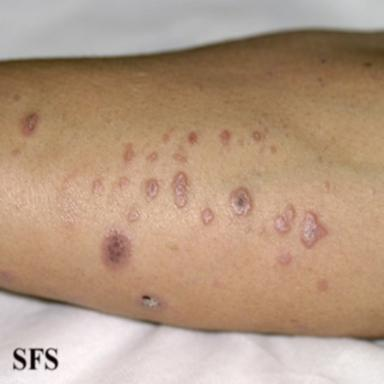lichen: (103, 229, 131, 269), (301, 211, 327, 248), (138, 289, 167, 312), (229, 187, 252, 215), (172, 171, 189, 208), (275, 205, 295, 232), (21, 113, 39, 136), (145, 179, 160, 199), (124, 143, 135, 165), (202, 207, 215, 224), (277, 251, 292, 265), (127, 207, 140, 222), (92, 179, 104, 195), (145, 151, 159, 163), (173, 153, 188, 164), (220, 130, 231, 145), (317, 279, 329, 292), (119, 177, 130, 190), (188, 132, 197, 144), (253, 132, 261, 142), (162, 133, 169, 143), (11, 149, 21, 156), (13, 94, 21, 102), (270, 146, 277, 154)
